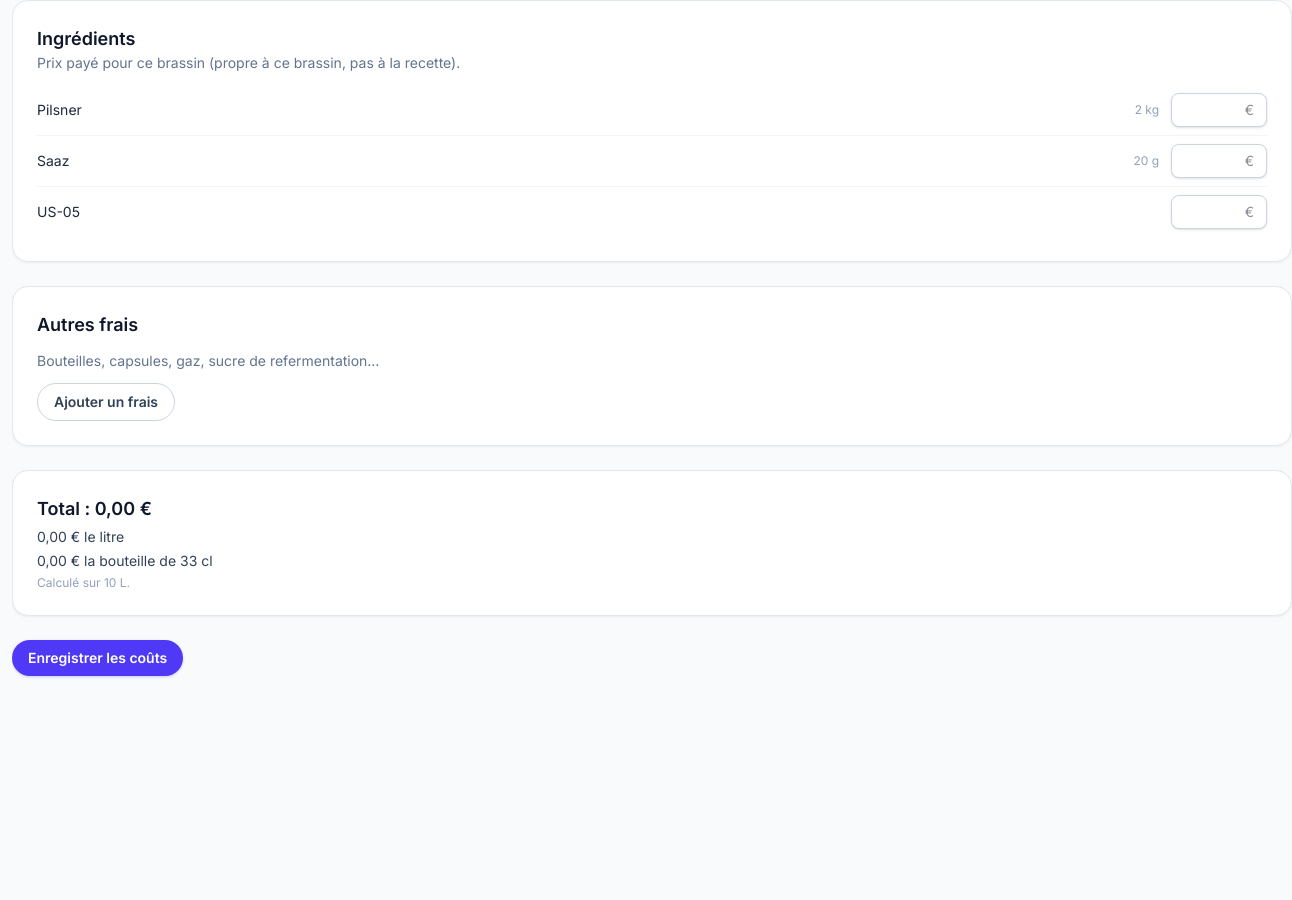
Test: BatchCost › affiche l’erreur d’enregistrement
This screenshot has width=1292, height=900.
Type "5" into the field named "Prix de Pilsner".
click(1219, 110); type("5")  # box [1171,93,1267,127]
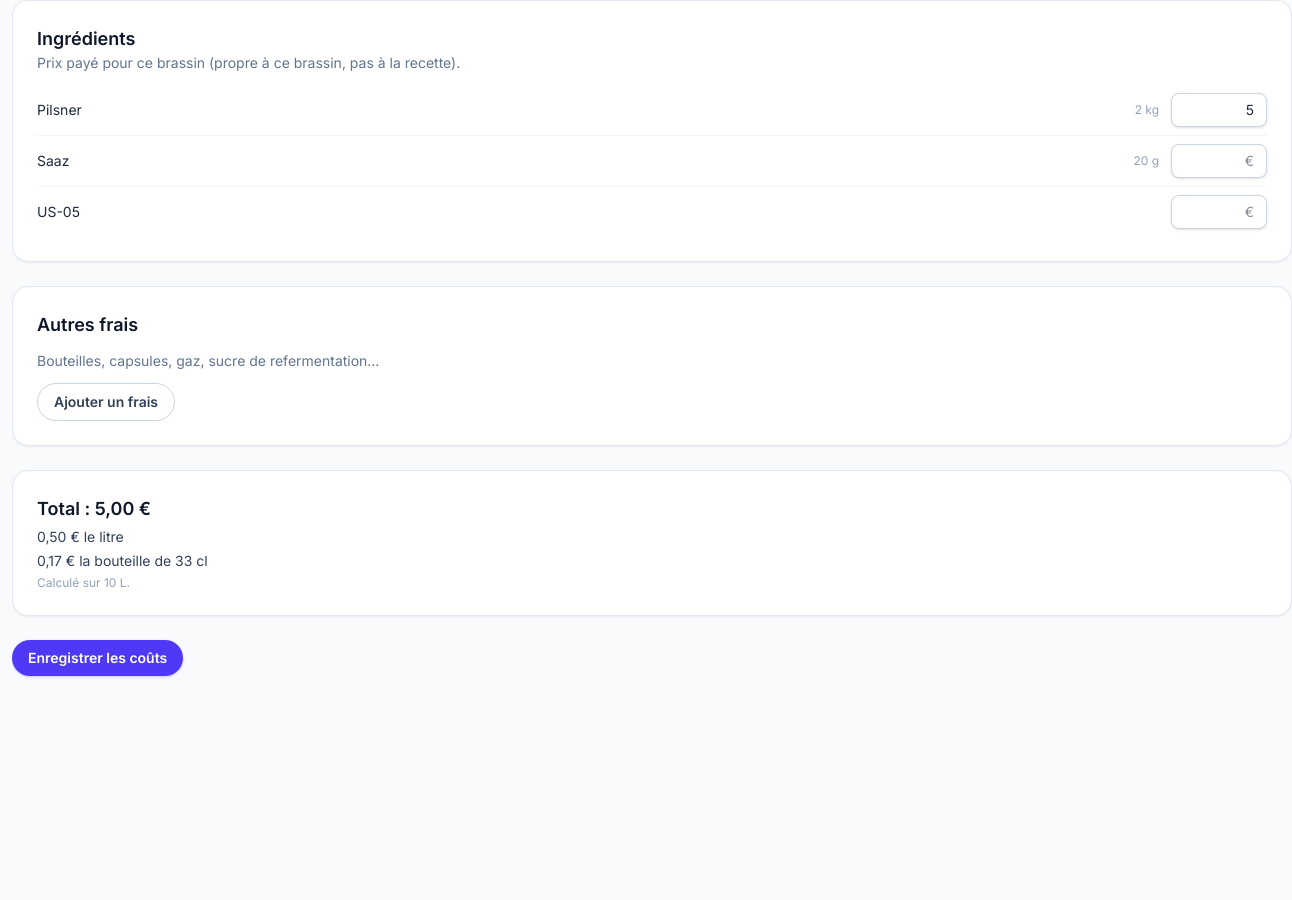
Click the button "Enregistrer les coûts".
click(98, 658)  # box [12,640,183,676]
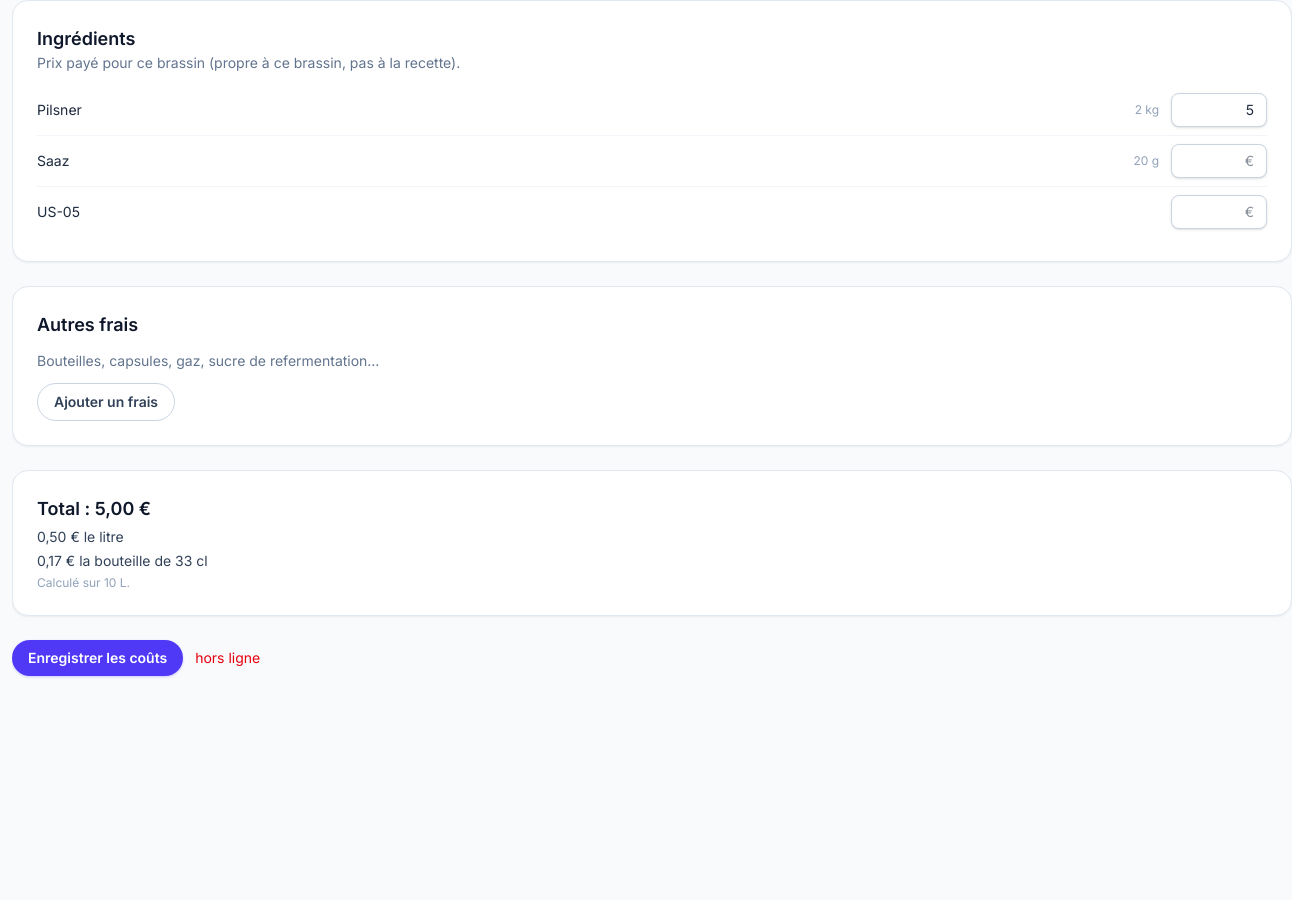
Expected: the text "hors ligne" is shown, [195,648,260,668]
